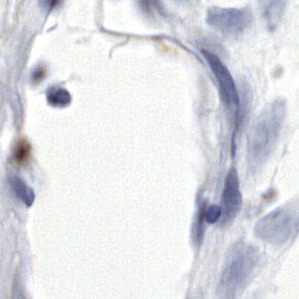Lymphocyte: (10, 136, 32, 163)
